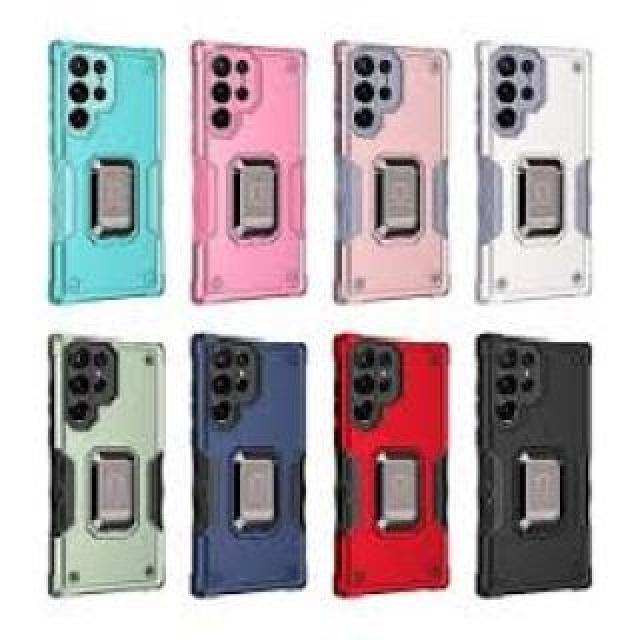smart phone: (33, 20, 177, 303), (312, 20, 460, 292), (458, 37, 604, 303), (35, 328, 173, 602), (173, 318, 312, 588), (170, 32, 323, 276), (475, 327, 603, 598), (332, 332, 445, 590)
